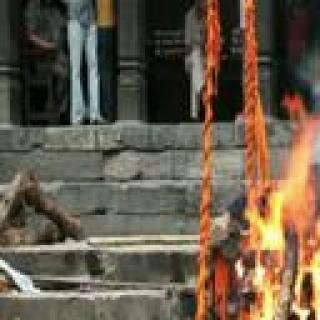fire: (243, 116, 320, 320)
